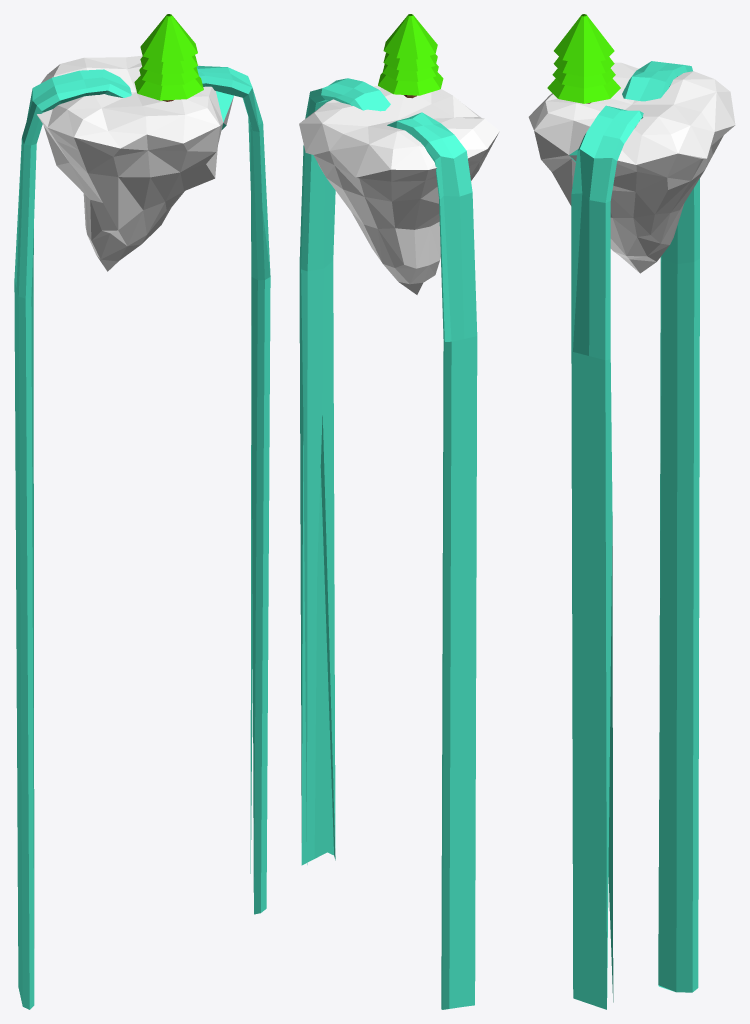
Rendered from Island.obj.
3 renders of one model, left to right at view 1: azimuth 30°, elevation 25°; view 2: azimuth 150°, elevation 25°; view 3: azimuth 270°, elevation 25°, orthographic. The views are drawn at different scales.
Parts seen in each view (by area): view 1: FlyingIslands1:Mesh; view 2: FlyingIslands1:Mesh; view 3: FlyingIslands1:Mesh.
Boxes of the visible parts, x1,y1,x2,y2 form: FlyingIslands1:Mesh: (14,14,270,1009); FlyingIslands1:Mesh: (299,14,499,1009); FlyingIslands1:Mesh: (528,14,735,1009).
Size of the model in its own units: 4.64 by 20.26 by 3.72.
Materials: 1 (1 with a texture image).
